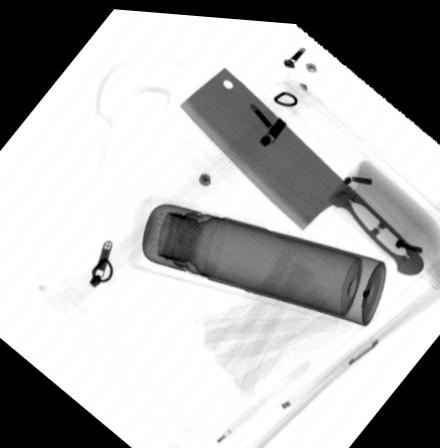Knife: (177, 63, 424, 270)
